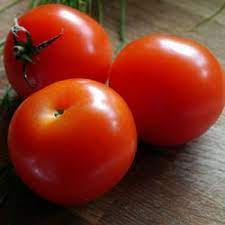tomato: (10, 82, 133, 196), (116, 36, 225, 138)
